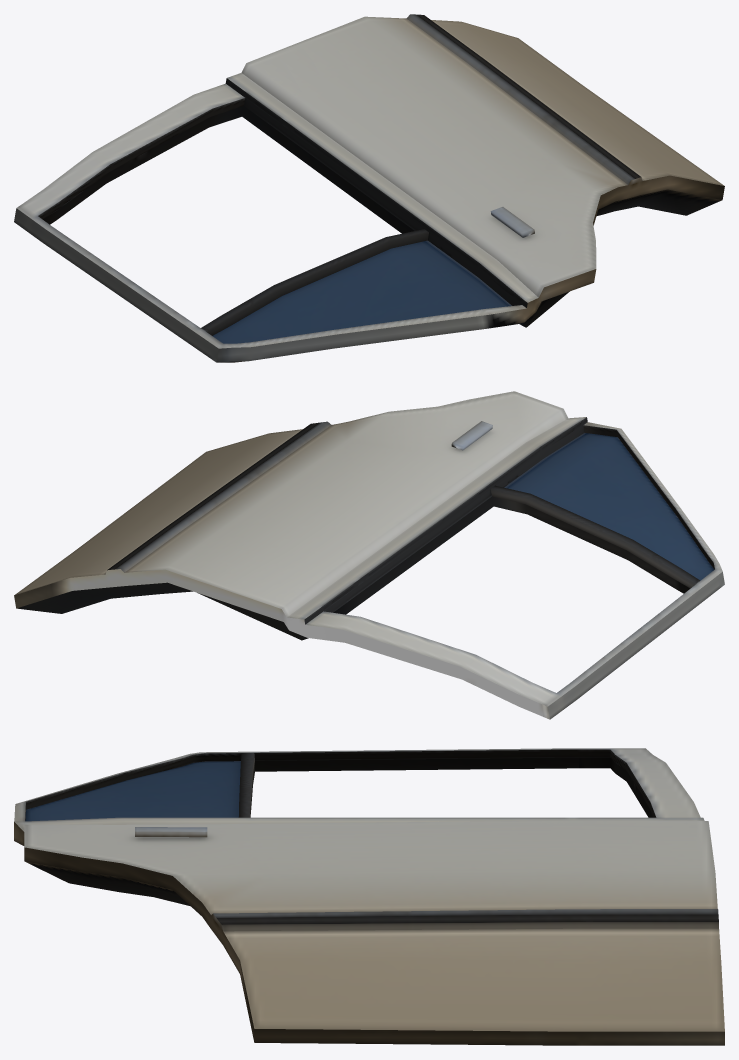
The model's file is CavalierRearDoor_WorldItem.fbx.
3 renders of one model, top to bottom at view 1: azimuth 30°, elevation 25°; view 2: azimuth 150°, elevation 25°; view 3: azimuth 270°, elevation 25°, orthographic. The views are drawn at different scales.
Visible parts, largest first — view 1: RearRightDoor_obj; view 2: RearRightDoor_obj; view 3: RearRightDoor_obj.
Part boxes in pixels (x1,y1,x2,y2): RearRightDoor_obj: (14, 14, 724, 362); RearRightDoor_obj: (14, 391, 724, 719); RearRightDoor_obj: (14, 748, 724, 1045).
Bounding box in the file's own units: 1.28 × 0.2112 × 1.28.
